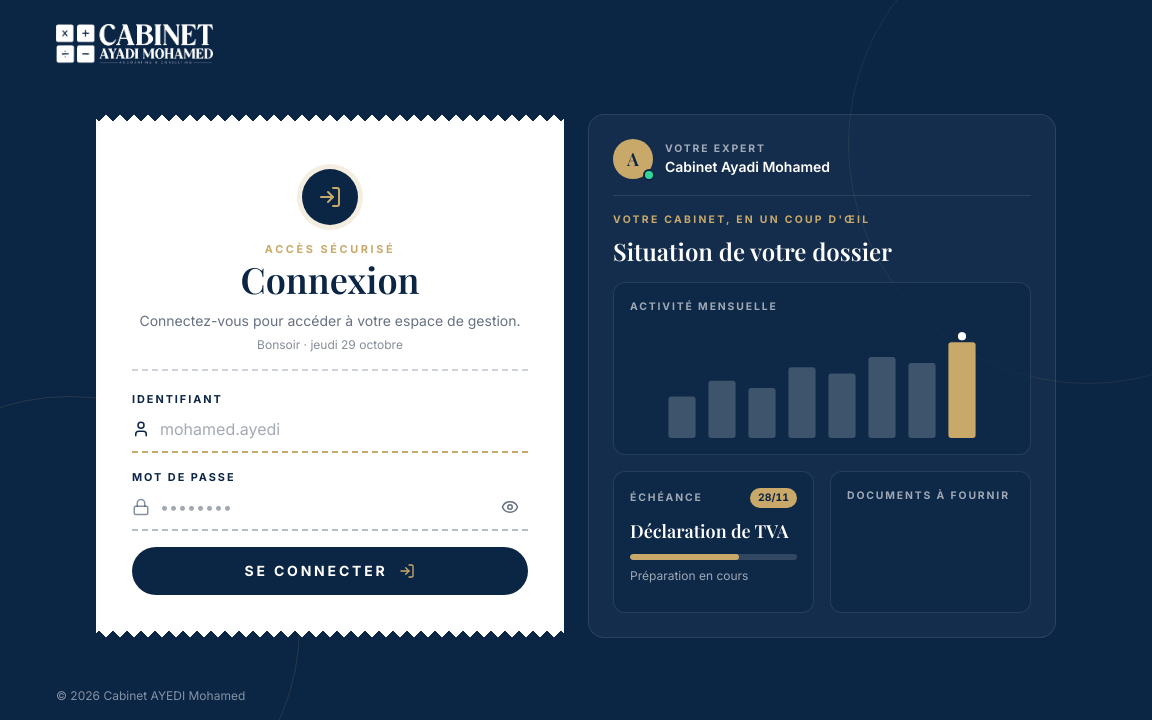
Test: page de connexion : accueil personnalisé › déduit le prénom d'une adresse e-mail, d'un seul mot, et ignore une saisie sans lettre
The image size is (1152, 720).
Type "SARA_ben-ali@cabinet.tn" into the field labelled "Identifiant".
click(344, 429); type("SARA_ben-ali@cabinet.tn")  # box [160, 407, 528, 451]
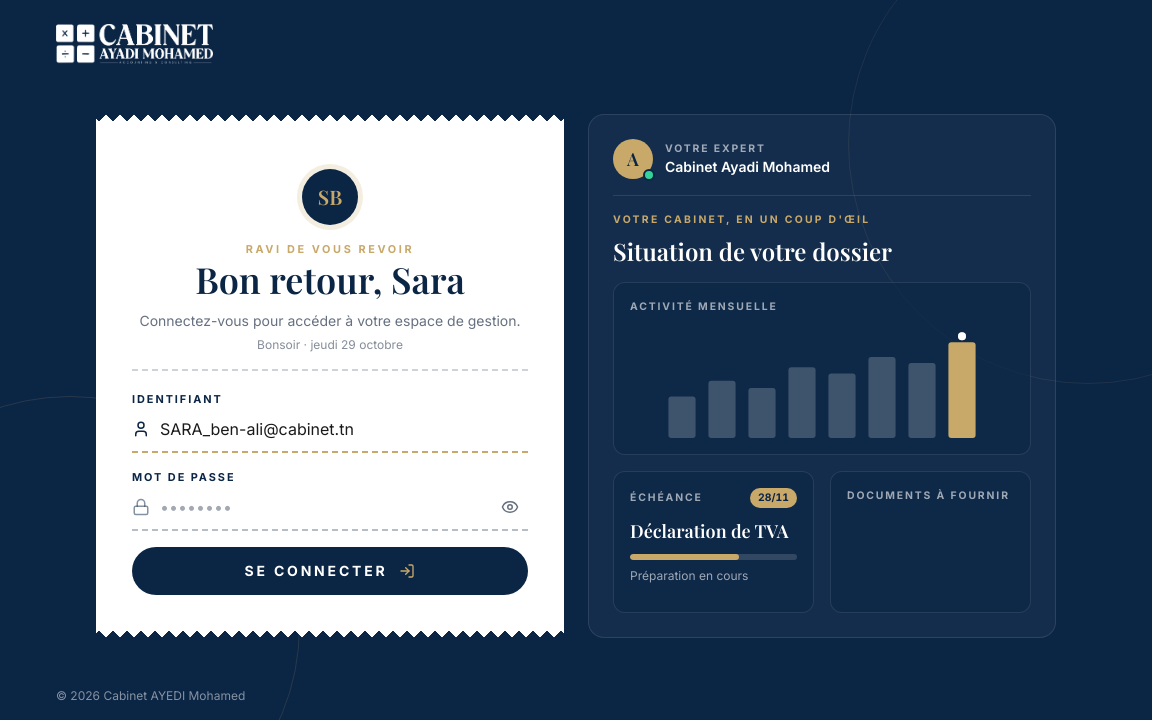
Now the heading "Bon retour, Sara" is shown, box [195, 255, 465, 303]
Now the text "SB" is shown, box [318, 182, 342, 210]
Replace the text in the field labelled "Identifiant" with "admin" at (344, 429), box [160, 407, 528, 451]
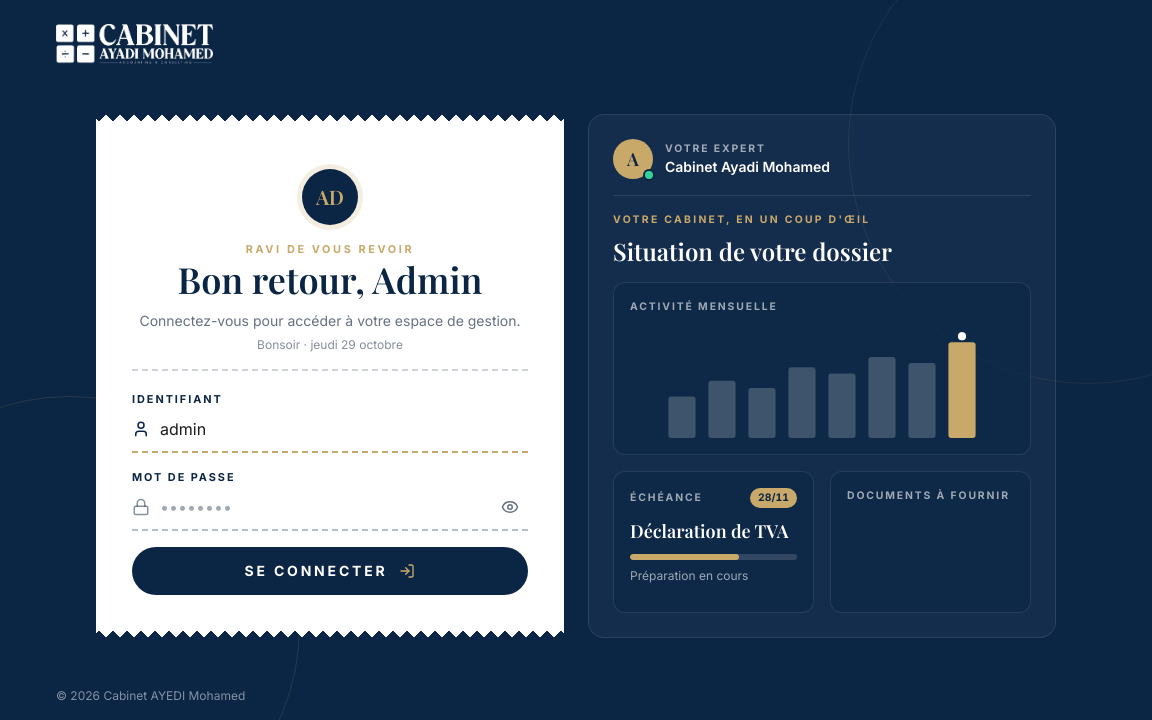
Now the heading "Bon retour, Admin" is shown, box [178, 255, 482, 303]
Now the text "AD" is shown, box [316, 182, 344, 210]
Replace the text in the field labelled "Identifiant" with "1234" at (344, 429), box [160, 407, 528, 451]
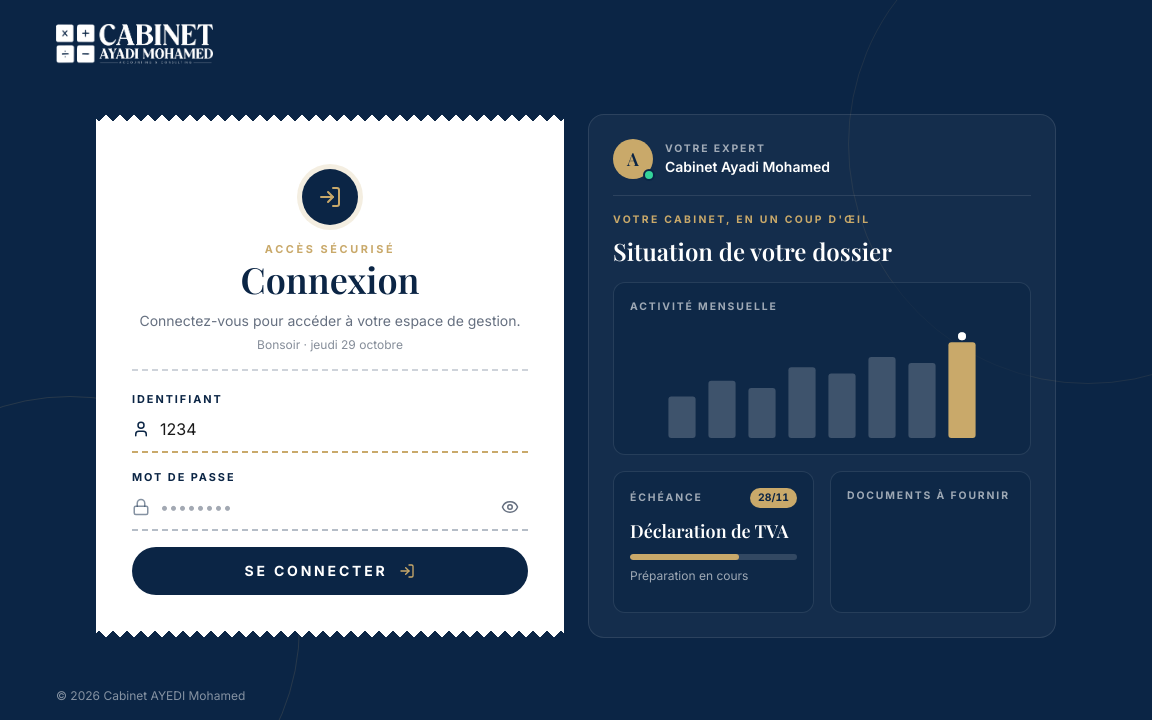
Now the heading "Connexion" is shown, box [240, 255, 419, 303]
